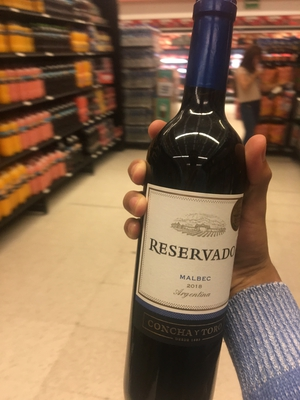reservado malbec: (134, 13, 249, 400)
